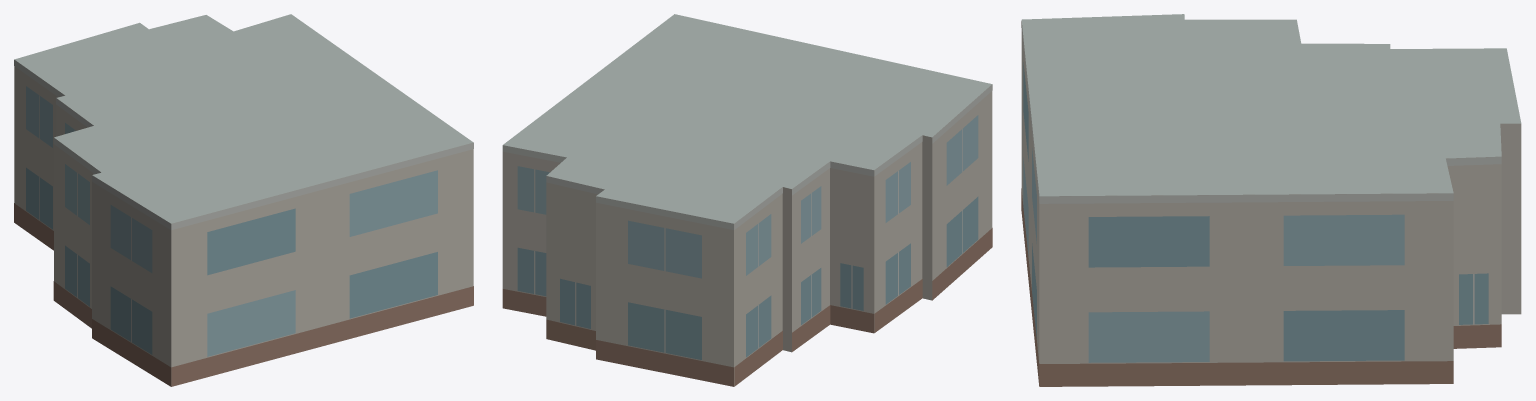
File: survey-upis-32678180.glb
3 renders of one model, left to right at view 1: azimuth 30°, elevation 25°; view 2: azimuth 150°, elevation 25°; view 3: azimuth 270°, elevation 25°, orthographic. The views are drawn at different scales.
Parts seen in each view (by area): view 1: survey-upis-32678180.tmp; view 2: survey-upis-32678180.tmp; view 3: survey-upis-32678180.tmp.
Boxes of the visible parts, box(x1,y1,x2,y2) form: survey-upis-32678180.tmp: box(14, 14, 473, 386); survey-upis-32678180.tmp: box(502, 14, 992, 386); survey-upis-32678180.tmp: box(1021, 14, 1521, 386).
Bounding box in the file's own units: 12.52 × 6.1 × 14.51.
